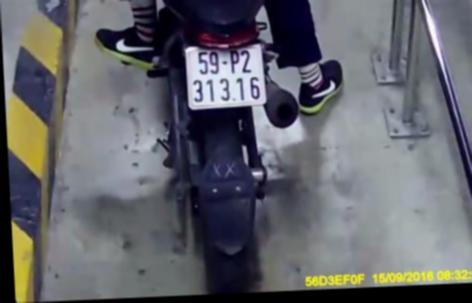License_Plate: (180, 41, 269, 112)
